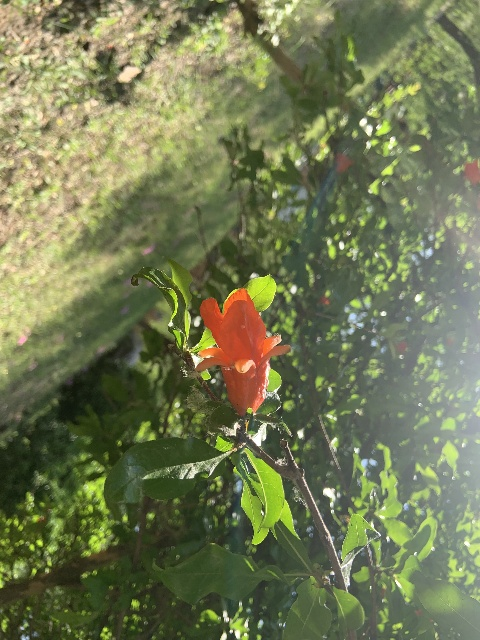flower: (196, 287, 290, 415)
